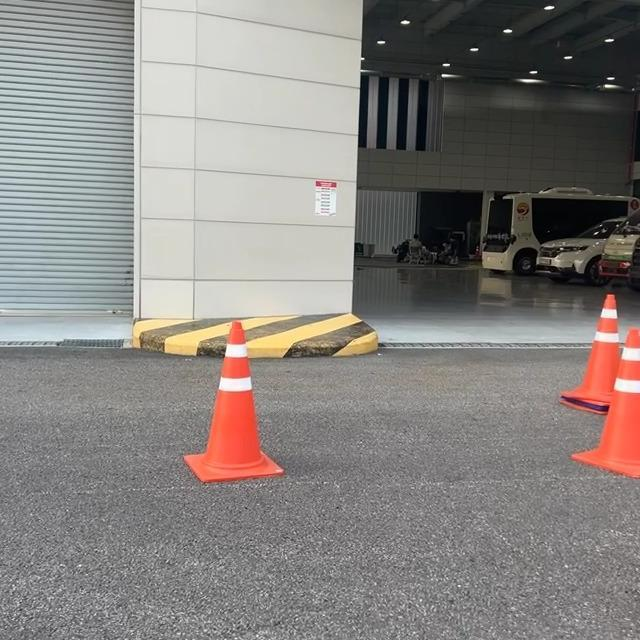fallen_object: (534, 268, 640, 481), (186, 323, 305, 499)
